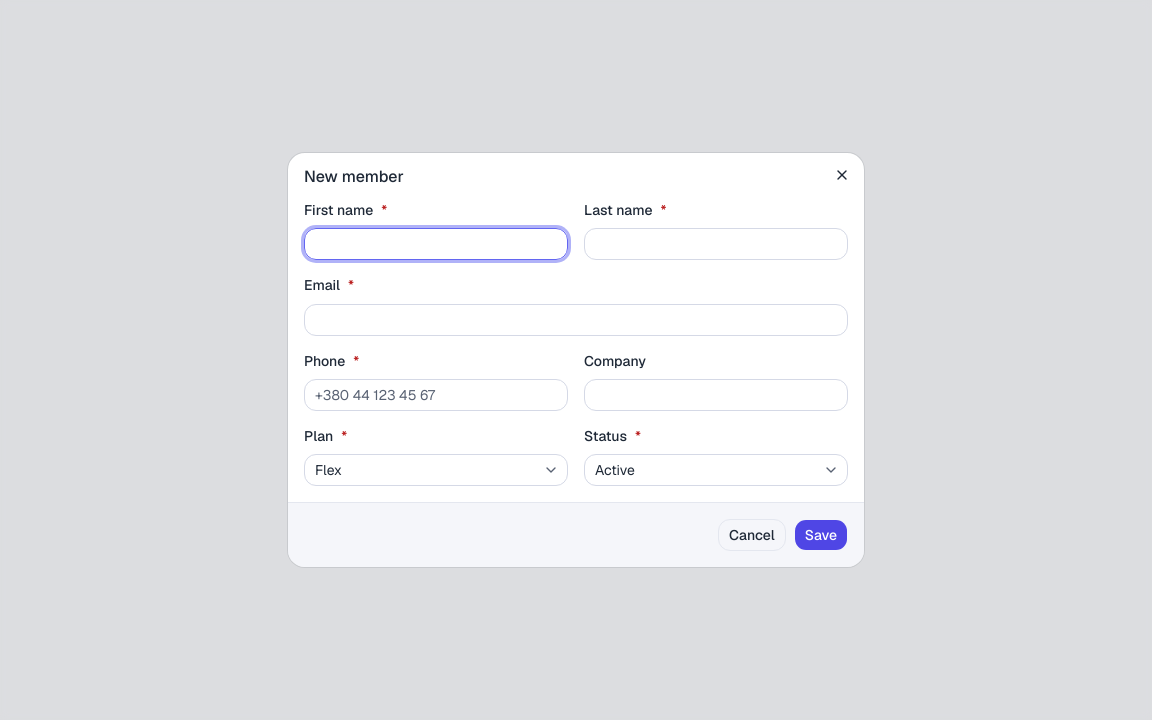
Test case: MemberFormDialog: creating › shows the validation messages under the fields and sends nothing
Type "not-an-email" into the field labelled "Email *".
click(576, 320); type("not-an-email")  # box left=304, top=304, right=848, bottom=336
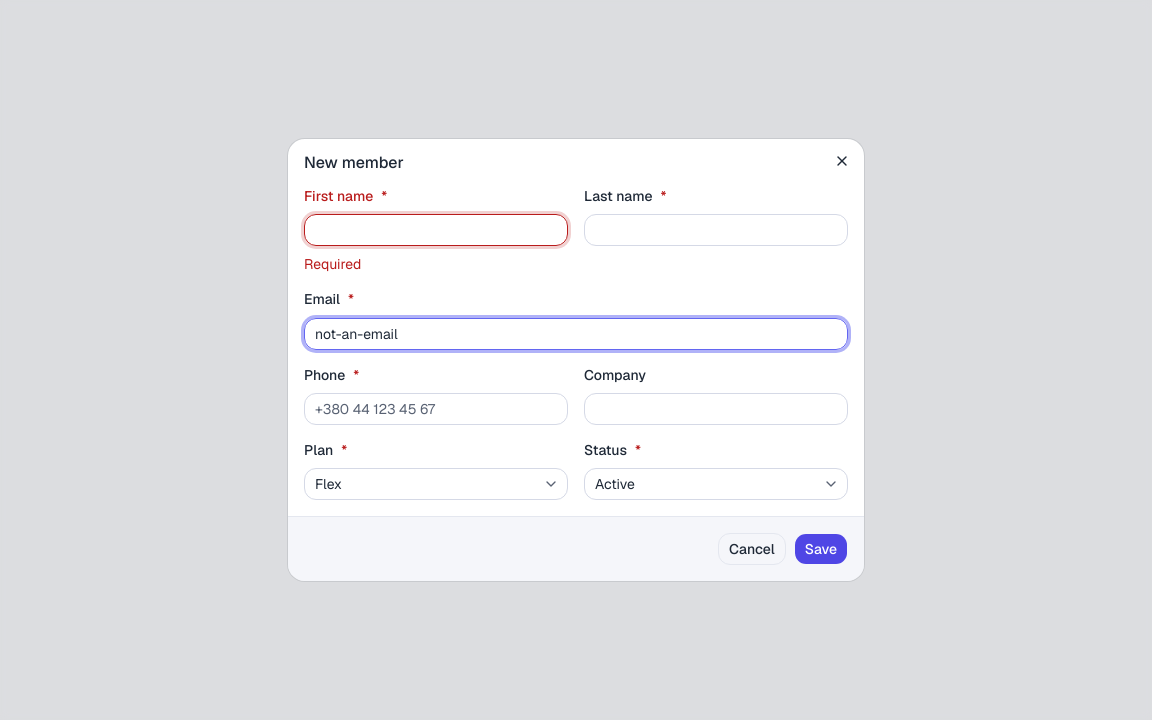
Type "call me" into the field labelled "Phone *".
click(436, 409); type("call me")  # box left=304, top=393, right=568, bottom=425
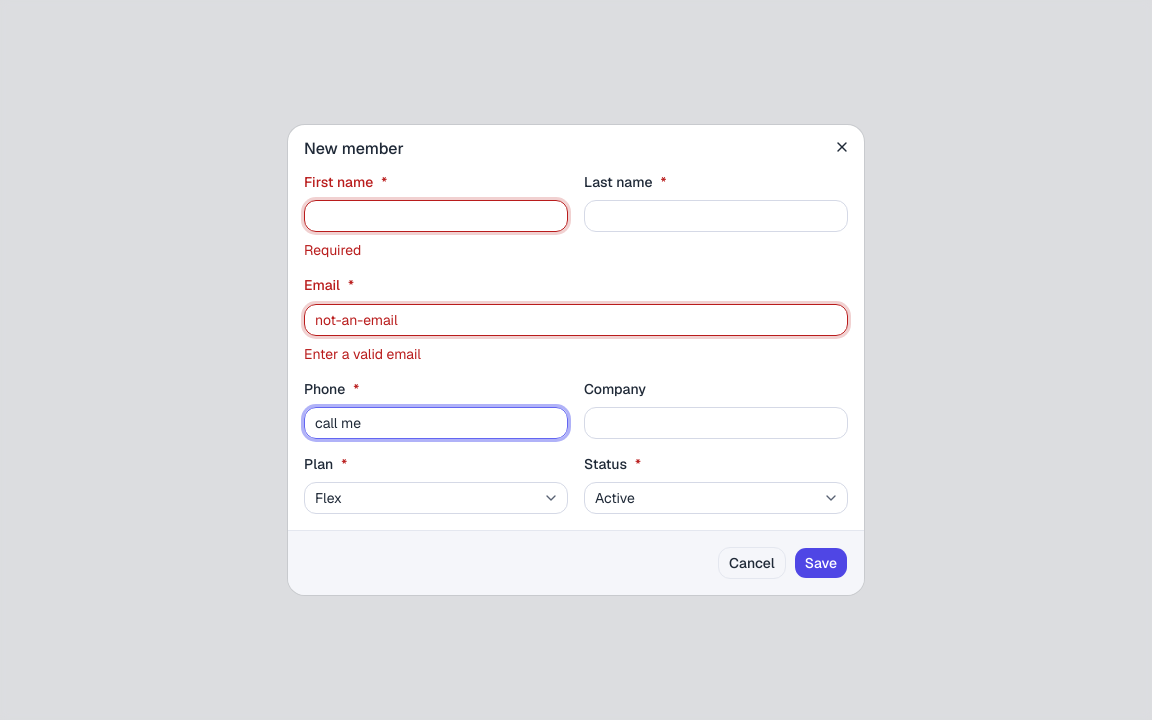
Click the button "Save".
click(821, 563)  # box left=794, top=547, right=848, bottom=579
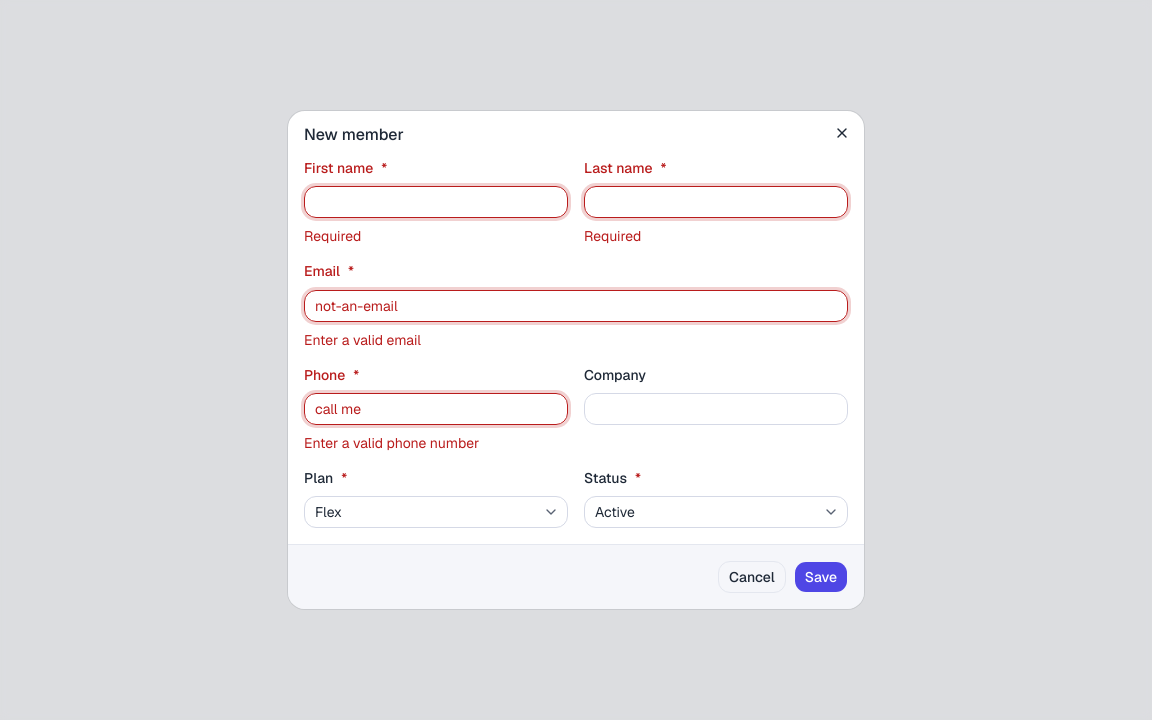
Expected: the text "Required" is shown 2 times, left=304, top=227, right=361, bottom=245; left=584, top=227, right=641, bottom=245
Expected: the text "Enter a valid email" is shown, left=304, top=330, right=421, bottom=348
Expected: the text "Enter a valid phone number" is shown, left=304, top=434, right=479, bottom=452
